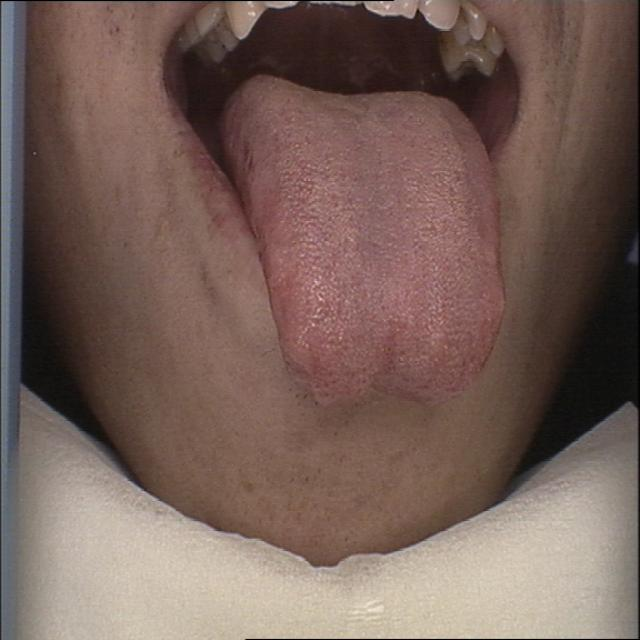tongue: (210, 62, 520, 420)
